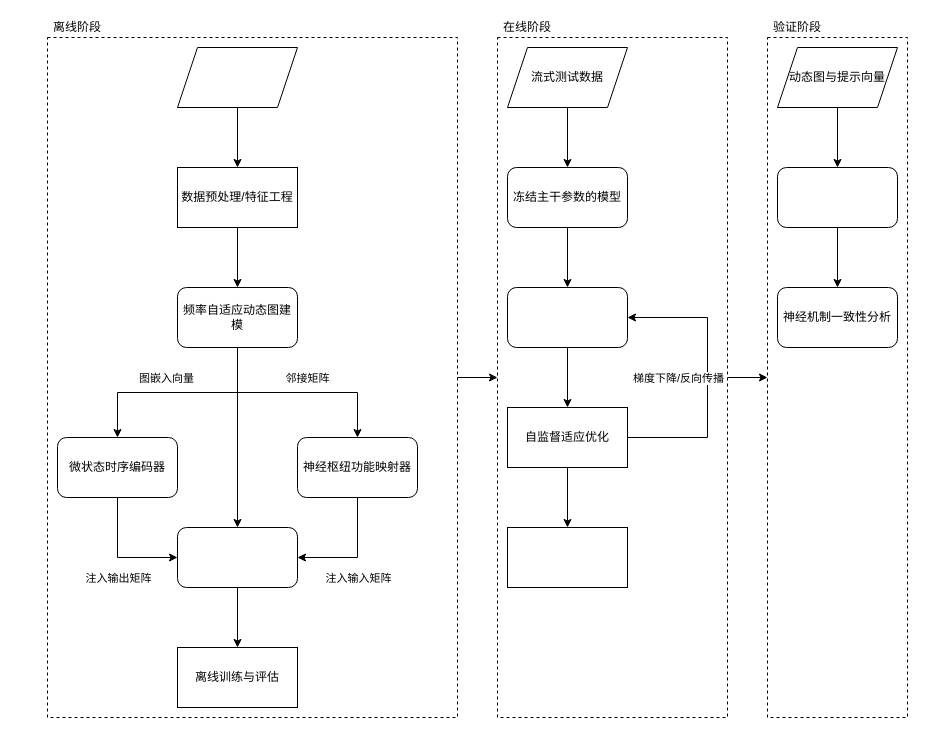
Some shapes in this 925 by 735 pixel diagram are drawn without their labels. Each missing label, with the box of its shape:
SEED/FACED 数据集: (176, 46, 298, 108)
参数高效TTA: (506, 286, 628, 348)
可解释性分析: (776, 166, 898, 228)
在线解码输出: (506, 526, 628, 588)
提示增强型状态空间时序建模: (176, 526, 298, 588)
